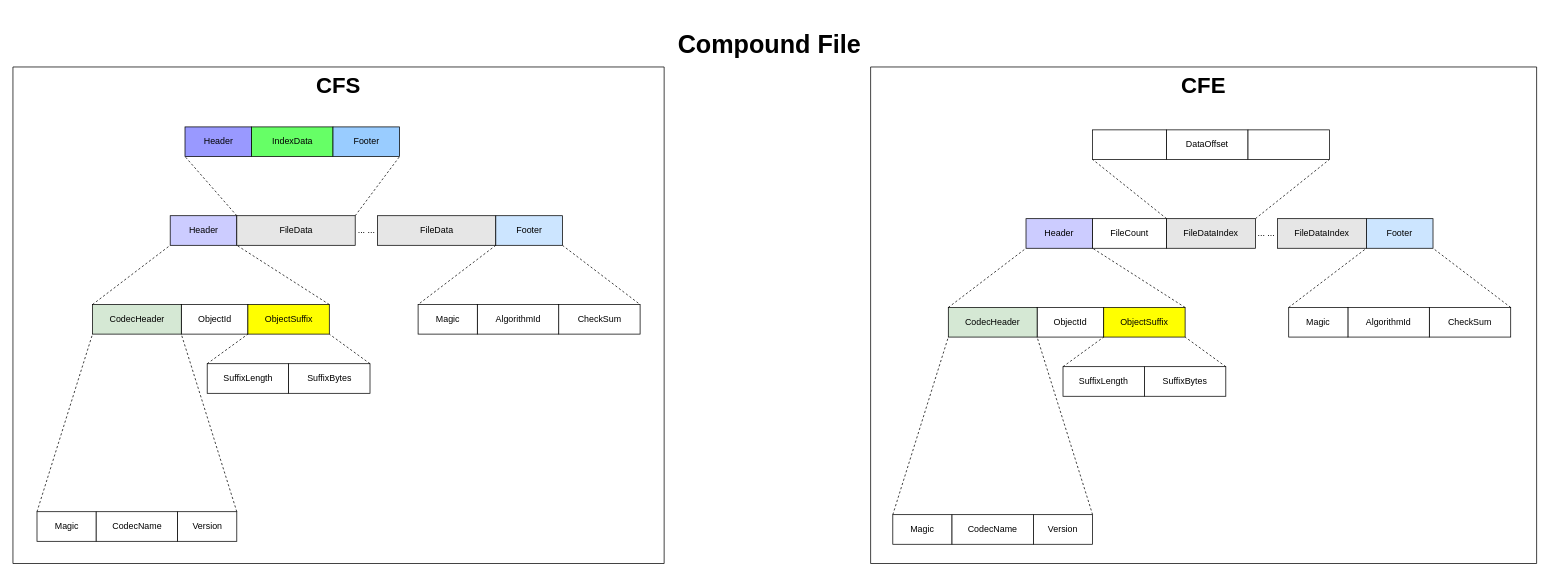
Some shapes in this 1550 by 576 pixel diagram are drawn without their labels. Here are the shapes that lost their labels. From the top down, the centre of each, then its label:
At pixel 1129 144: "FileName".
At pixel 1288 144: "DataLength".
